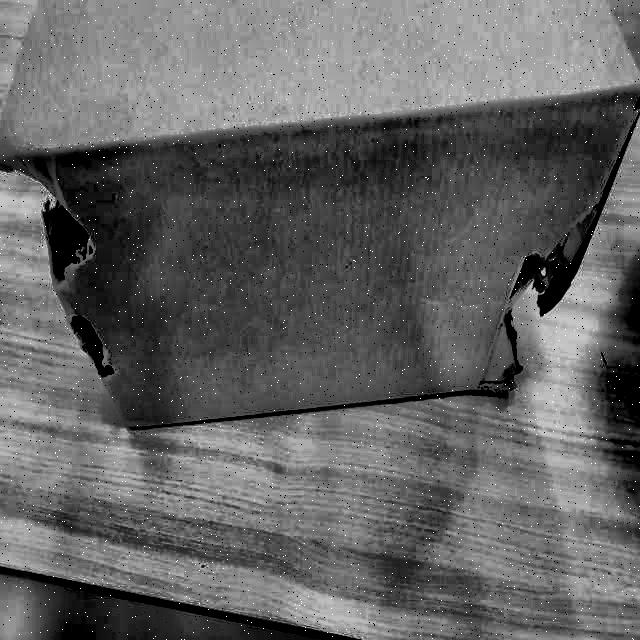box: (1, 0, 640, 442)
hole: (2, 140, 109, 374), (480, 242, 582, 400)
